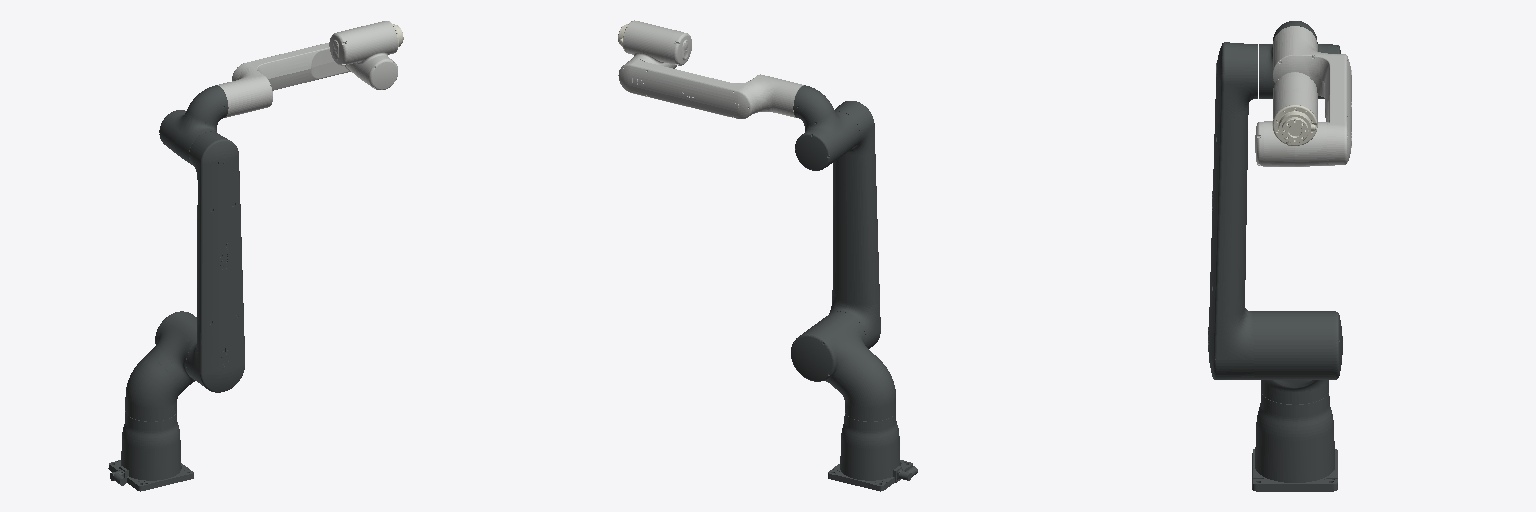
robot.urdf — abb_crb15000_10_152:
<?xml version="1.0" ?>
<!-- =================================================================================== -->
<!-- |    This document was autogenerated by xacro from crb15000_10_152.xacro          | -->
<!-- |    EDITING THIS FILE BY HAND IS NOT RECOMMENDED                                 | -->
<!-- =================================================================================== -->
<robot name="abb_crb15000_10_152">
  <!-- Conversion were obtained from http://www.e-paint.co.uk/Lab_values.asp
       unless otherwise stated. -->
  <!-- link list -->
  <link name="base_link">
    <collision>
      <geometry>
        <mesh filename="package://abb_crb15000_support/meshes/crb15000_10_152/collision/base_link.stl"/>
      </geometry>
    </collision>
    <visual>
      <geometry>
        <mesh filename="package://abb_crb15000_support/meshes/crb15000_10_152/visual/base_link.stl"/>
      </geometry>
      <material name="">
        <color rgba="0.3450980 0.3647059 0.3686275 1"/>
      </material>
    </visual>
  </link>
  <link name="link_1">
    <collision>
      <geometry>
        <mesh filename="package://abb_crb15000_support/meshes/crb15000_10_152/collision/link_1.stl"/>
      </geometry>
    </collision>
    <visual>
      <geometry>
        <mesh filename="package://abb_crb15000_support/meshes/crb15000_10_152/visual/link_1.stl"/>
      </geometry>
      <material name="">
        <color rgba="0.3450980 0.3647059 0.3686275 1"/>
      </material>
    </visual>
  </link>
  <link name="link_2">
    <collision>
      <geometry>
        <mesh filename="package://abb_crb15000_support/meshes/crb15000_10_152/collision/link_2.stl"/>
      </geometry>
    </collision>
    <visual>
      <geometry>
        <mesh filename="package://abb_crb15000_support/meshes/crb15000_10_152/visual/link_2.stl"/>
      </geometry>
      <material name="">
        <color rgba="0.3450980 0.3647059 0.3686275 1"/>
      </material>
    </visual>
  </link>
  <link name="link_3">
    <collision>
      <geometry>
        <mesh filename="package://abb_crb15000_support/meshes/crb15000_10_152/collision/link_3.stl"/>
      </geometry>
    </collision>
    <visual>
      <geometry>
        <mesh filename="package://abb_crb15000_support/meshes/crb15000_10_152/visual/link_3.stl"/>
      </geometry>
      <material name="">
        <color rgba="0.3450980 0.3647059 0.3686275 1"/>
      </material>
    </visual>
  </link>
  <link name="link_4">
    <collision>
      <geometry>
        <mesh filename="package://abb_crb15000_support/meshes/crb15000_10_152/collision/link_4.stl"/>
      </geometry>
    </collision>
    <visual>
      <geometry>
        <mesh filename="package://abb_crb15000_support/meshes/crb15000_10_152/visual/link_4.stl"/>
      </geometry>
      <material name="">
        <color rgba="0.7725490 0.7803922 0.7686275 1"/>
      </material>
    </visual>
  </link>
  <link name="link_5">
    <collision>
      <geometry>
        <mesh filename="package://abb_crb15000_support/meshes/crb15000_10_152/collision/link_5.stl"/>
      </geometry>
    </collision>
    <visual>
      <geometry>
        <mesh filename="package://abb_crb15000_support/meshes/crb15000_10_152/visual/link_5.stl"/>
      </geometry>
      <material name="">
        <color rgba="0.7725490 0.7803922 0.7686275 1"/>
      </material>
    </visual>
  </link>
  <link name="link_6">
    <collision>
      <geometry>
        <mesh filename="package://abb_crb15000_support/meshes/crb15000_10_152/collision/link_6.stl"/>
      </geometry>
    </collision>
    <visual>
      <geometry>
        <mesh filename="package://abb_crb15000_support/meshes/crb15000_10_152/visual/link_6.stl"/>
      </geometry>
      <material name="">
        <color rgba="0.8392157 0.8352941 0.7921569 1"/>
      </material>
    </visual>
  </link>
  <!-- end of link list -->
  <!-- joint list -->
  <joint name="joint_1" type="revolute">
    <origin rpy="0 0 0" xyz="0 0 0.218"/>
    <axis xyz="0 0 1"/>
    <parent link="base_link"/>
    <child link="link_1"/>
    <limit effort="0" lower="-4.71238898038469" upper="4.71238898038469" velocity="2.0943951023931953"/>
  </joint>
  <joint name="joint_2" type="revolute">
    <origin rpy="0 0 0" xyz="0.15 0 0.182"/>
    <axis xyz="0 1 0"/>
    <parent link="link_1"/>
    <child link="link_2"/>
    <limit effort="0" lower="-3.141592653589793" upper="3.141592653589793" velocity="2.0943951023931953"/>
  </joint>
  <joint name="joint_3" type="revolute">
    <origin rpy="0 0 0" xyz="0 0 0.707"/>
    <axis xyz="0 1 0"/>
    <parent link="link_2"/>
    <child link="link_3"/>
    <limit effort="0" lower="-3.9269908169872414" upper="1.4835298641951802" velocity="2.181661564992912"/>
  </joint>
  <joint name="joint_4" type="revolute">
    <origin rpy="0 0 0" xyz="0 0 0.110"/>
    <axis xyz="1 0 0"/>
    <parent link="link_3"/>
    <child link="link_4"/>
    <limit effort="0" lower="-3.141592653589793" upper="3.141592653589793" velocity="3.490658503988659"/>
  </joint>
  <joint name="joint_5" type="revolute">
    <origin rpy="0 0 0" xyz="0.637 0 0"/>
    <axis xyz="0 1 0"/>
    <parent link="link_4"/>
    <child link="link_5"/>
    <limit effort="0" lower="-3.141592653589793" upper="3.141592653589793" velocity="3.490658503988659"/>
  </joint>
  <joint name="joint_6" type="revolute">
    <origin rpy="0 0 0" xyz="0.101 0 0.080"/>
    <axis xyz="1 0 0"/>
    <parent link="link_5"/>
    <child link="link_6"/>
    <limit effort="0" lower="-4.71238898038469" upper="4.71238898038469" velocity="3.490658503988659"/>
  </joint>
  <!-- end of joint list -->
  <!-- ROS-Industrial 'base' frame: base_link to ABB World Coordinates transform -->
  <link name="base"/>
  <joint name="base_link-base" type="fixed">
    <origin rpy="0 0 0" xyz="0 0 0"/>
    <parent link="base_link"/>
    <child link="base"/>
  </joint>
  <!-- ROS-Industrial 'flange' frame: attachment point for EEF models -->
  <link name="flange"/>
  <joint name="joint_6-flange" type="fixed">
    <origin rpy="0 0 0" xyz="0 0 0"/>
    <parent link="link_6"/>
    <child link="flange"/>
  </joint>
  <!-- ROS-Industrial 'tool0' frame: all-zeros tool frame -->
  <link name="tool0"/>
  <joint name="flange-tool0" type="fixed">
    <origin rpy="0 1.5707963267948966 0" xyz="0 0 0"/>
    <parent link="flange"/>
    <child link="tool0"/>
  </joint>
</robot>

--- What the picture shows (computed from the rendered views, not written in the file) ---
The picture shows the robot from 3 angles, left to right: view 1: azimuth 30°, elevation 25°; view 2: azimuth 150°, elevation 25°; view 3: azimuth 270°, elevation 25°; orthographic projection.
Robot: abb_crb15000_10_152 — 10 links, 9 joints (6 revolute, 3 fixed); root link base_link; default pose: every joint at zero.
Links seen in each view (by area): view 1: link_2, link_1, link_4, base_link, link_5, link_3; view 2: link_2, link_1, link_4, base_link, link_3, link_5; view 3: link_2, link_1, base_link, link_4, link_5, link_6, link_3.
Boxes of the visible links, x1,y1,x2,y2 form: link_2: (186, 132, 244, 392); link_1: (125, 311, 196, 421); link_4: (215, 43, 350, 117); base_link: (108, 411, 193, 491); link_5: (329, 21, 397, 89); link_3: (159, 85, 227, 164); link_2: (829, 101, 880, 348); link_1: (791, 311, 895, 421); link_4: (618, 59, 803, 118); base_link: (828, 413, 917, 491); link_3: (793, 85, 859, 170); link_5: (624, 21, 691, 68); link_2: (1208, 42, 1257, 379); link_1: (1254, 311, 1342, 404); base_link: (1252, 393, 1337, 491); link_4: (1273, 26, 1351, 165); link_5: (1255, 72, 1326, 166); link_6: (1273, 105, 1317, 145); link_3: (1259, 21, 1340, 98).
Size in the robot's own frame: 1.03 by 0.3367 by 1.35 metres.
Meshes: 7 distinct files referenced, 7 mesh visuals loaded (7 binary STL).
